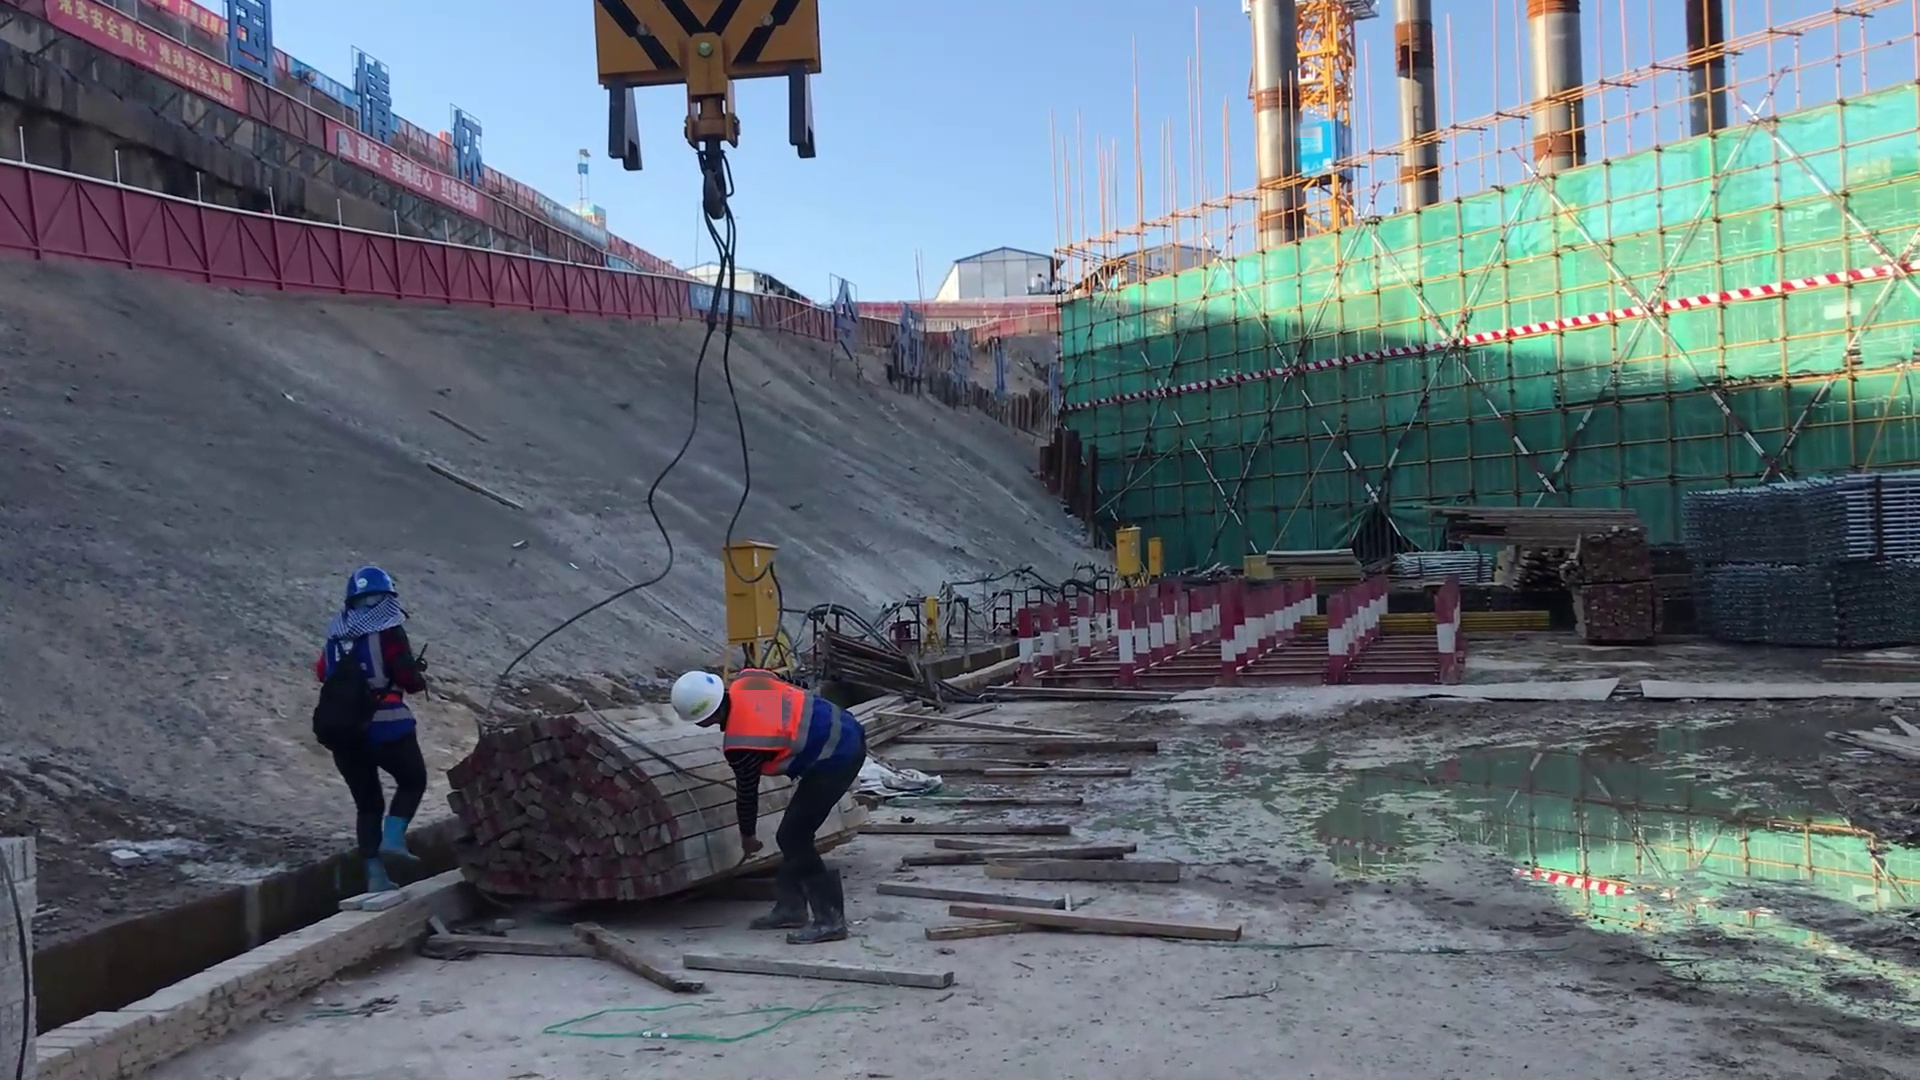ebox: (707, 520, 792, 649), (1110, 519, 1142, 572), (1143, 533, 1165, 585)
fence: (1, 172, 414, 298), (403, 253, 699, 323)
helmet: (330, 563, 398, 631), (658, 664, 721, 727)
hook: (594, 1, 825, 168)
person: (663, 657, 875, 957), (318, 561, 431, 898)
scaffold: (1692, 474, 1920, 666)
slogan: (37, 1, 254, 127)
vest: (732, 671, 842, 763)
wood: (893, 638, 1232, 983), (419, 694, 675, 974), (1410, 468, 1688, 556)
